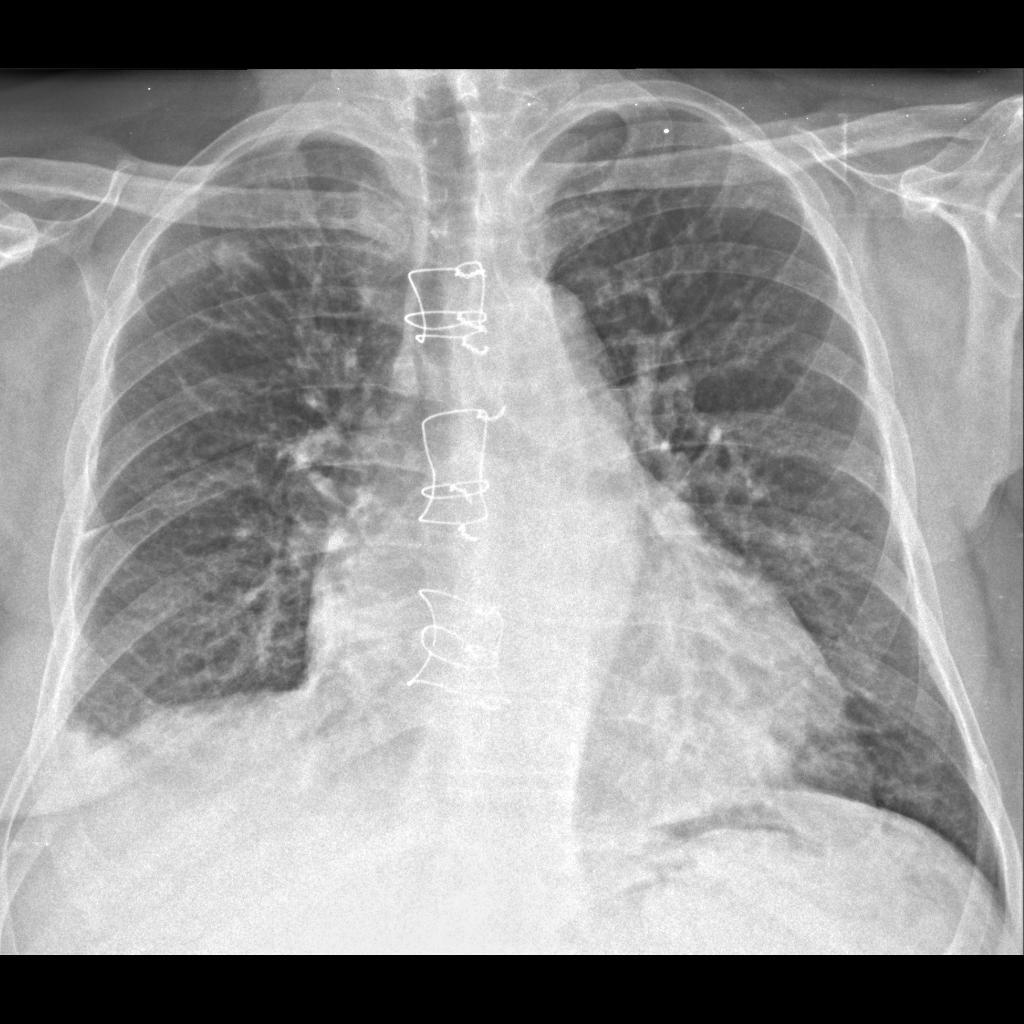Nodule: (202, 231, 261, 289)
